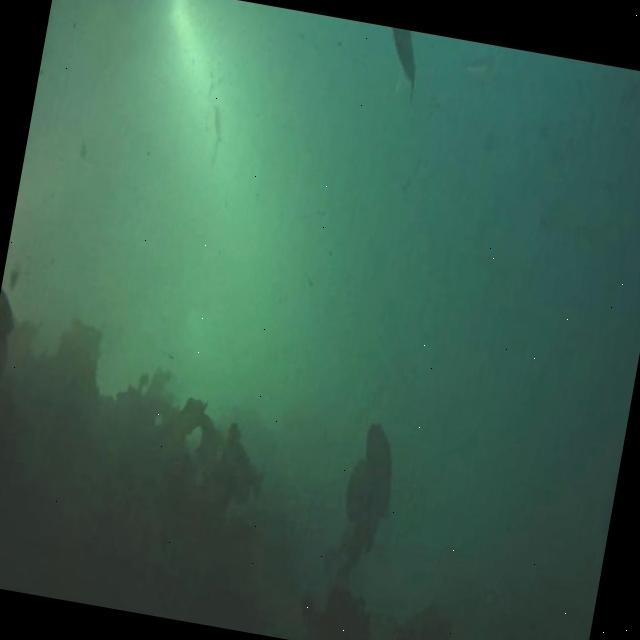fish: (375, 26, 427, 104)
